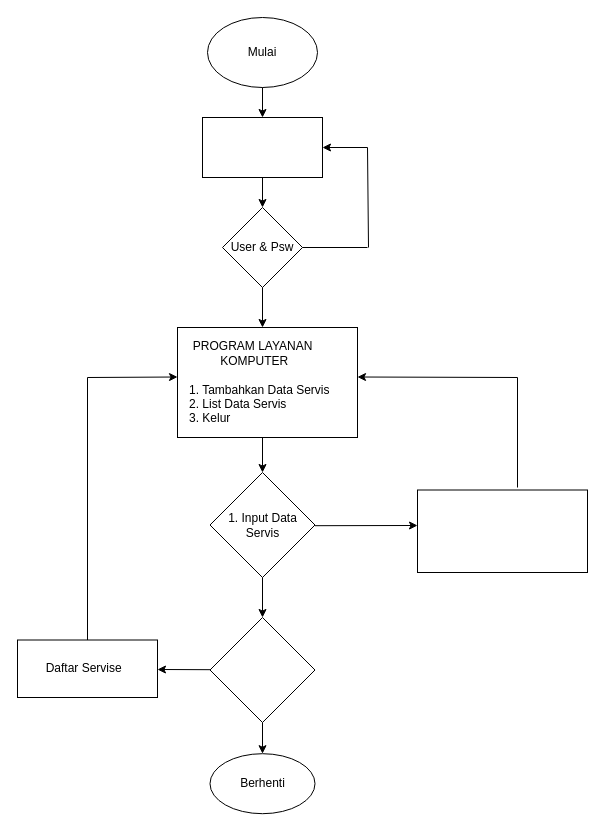
Image size: 605x832. Some labels were removed from this diagram. Here are the shapes that lost their labels. From the top down, the centre of each, then its label:
[262,147]: Input User & Pasword
[502,530]: INPUT DATA PELANGGAN Nama Pelanggan : Jenis Kerusakan :
[262,669]: 2. List Data Servis
